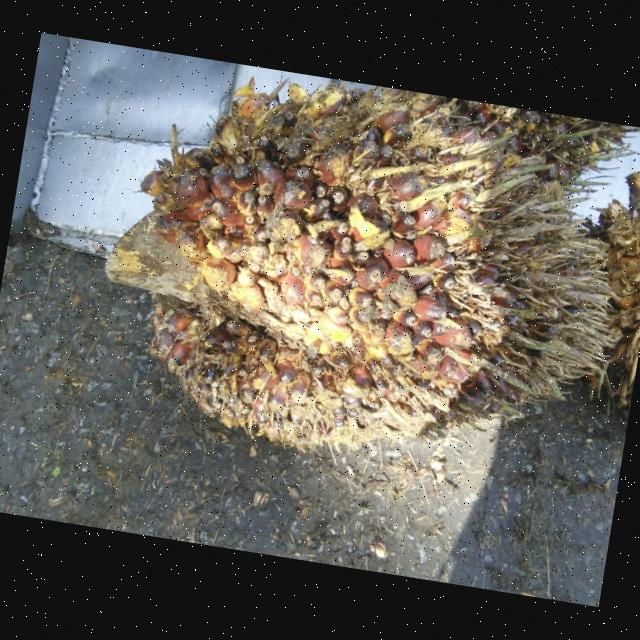Ripe: (117, 79, 602, 454)
